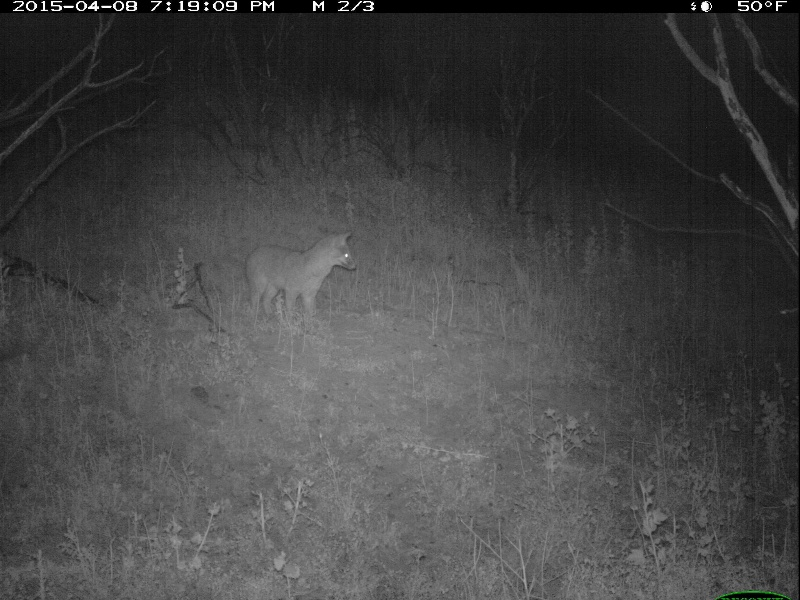coyote: (245, 230, 358, 323)
